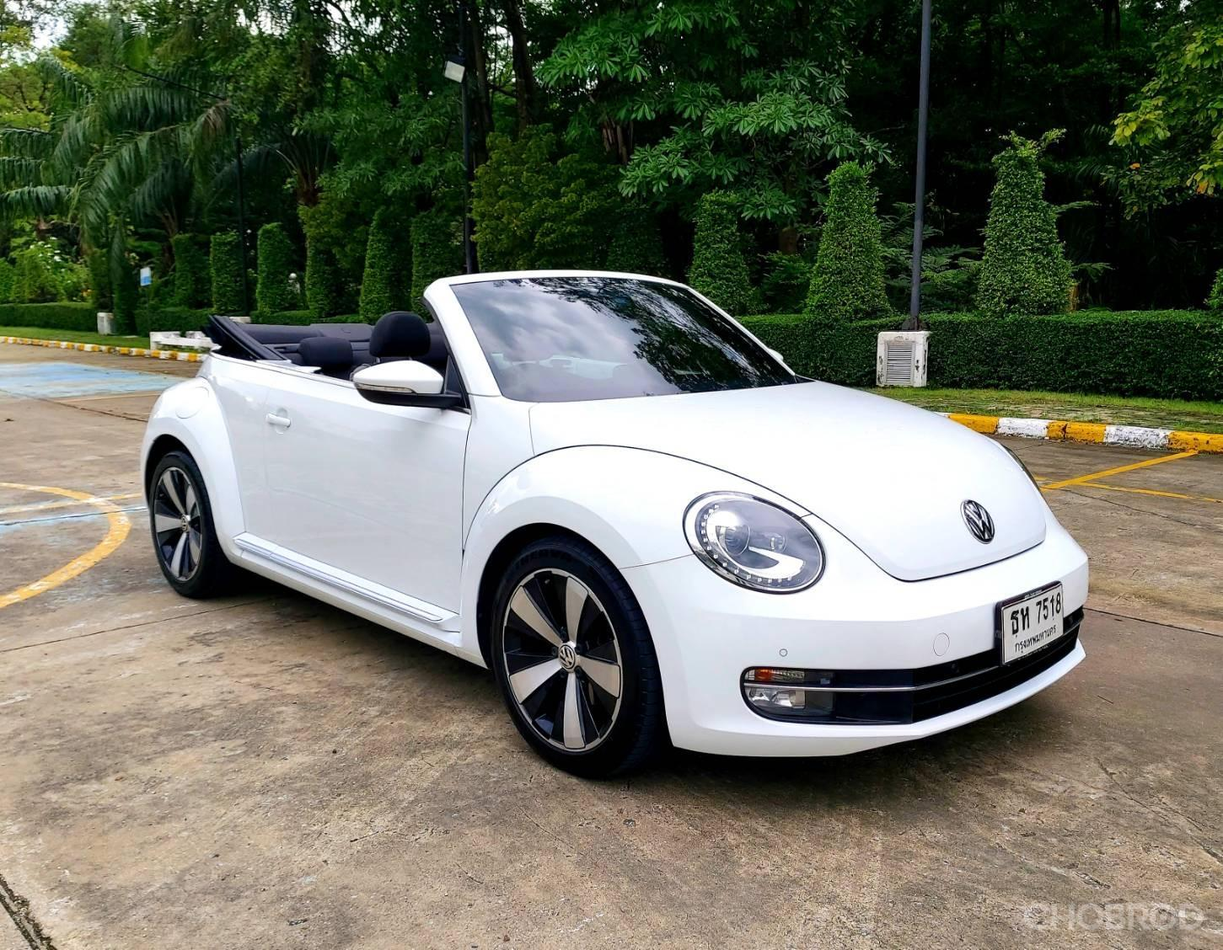license-plate: (995, 581, 1071, 673)
